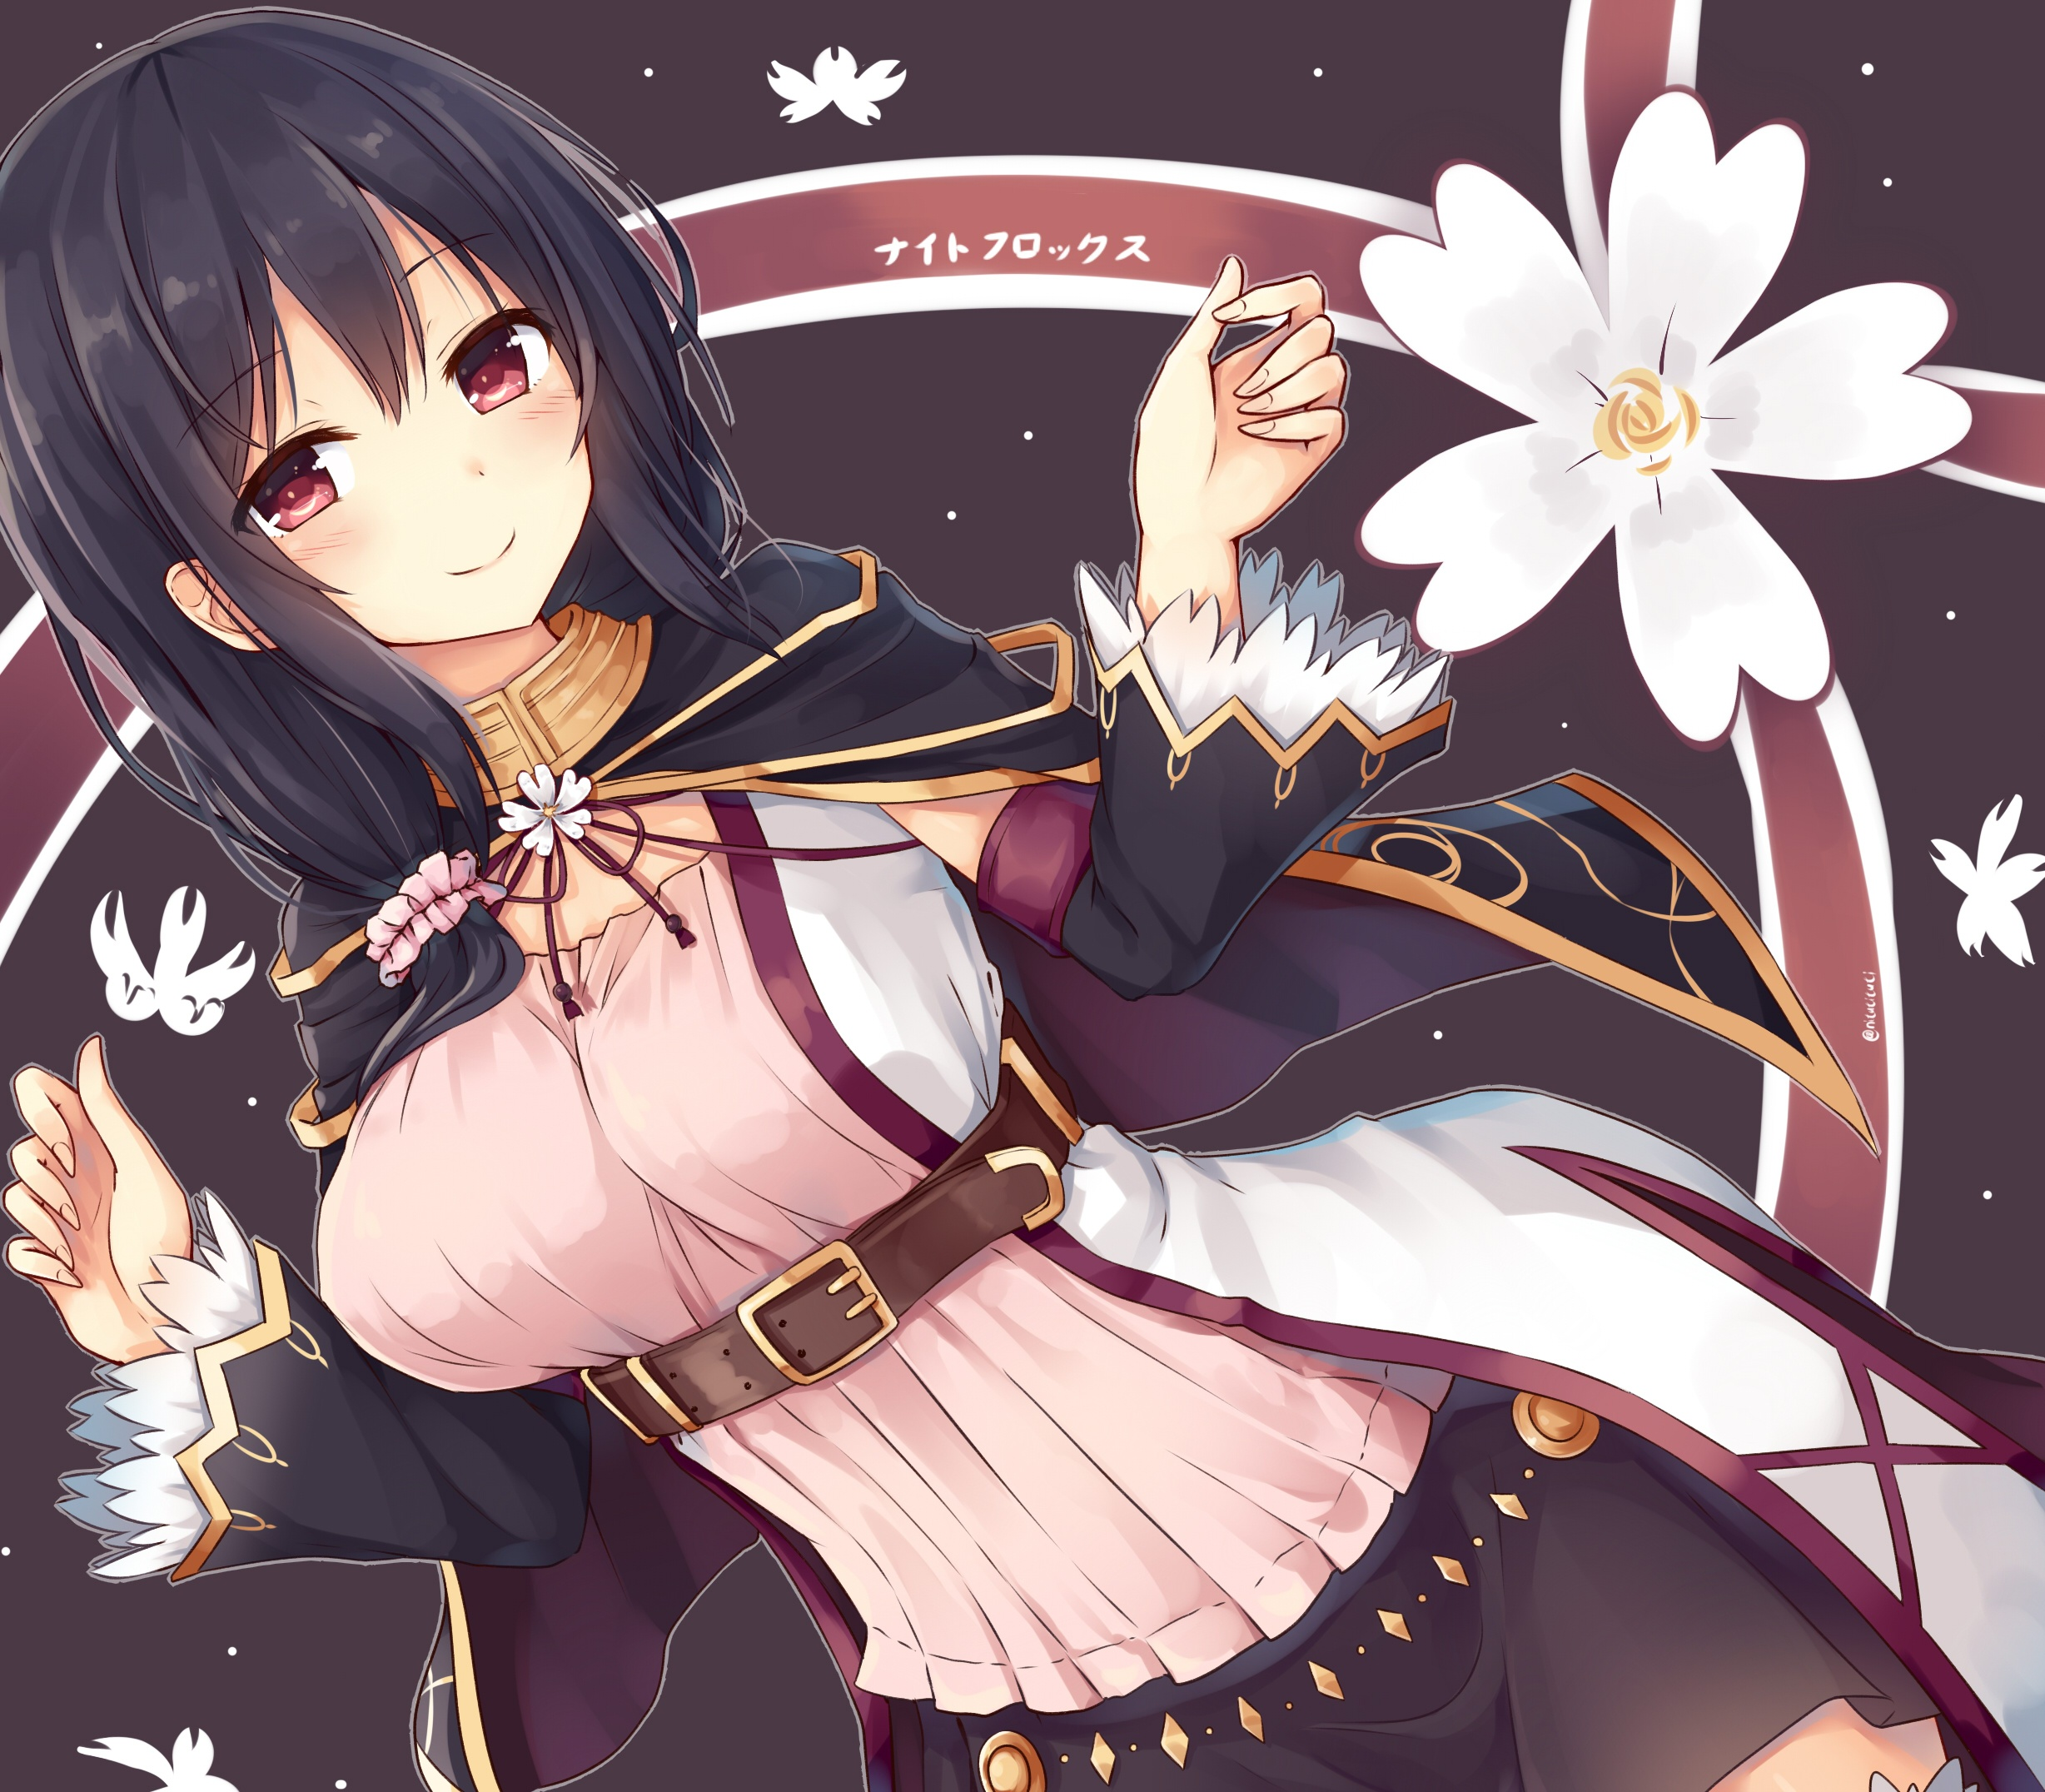纸片人正脸: (0, 6, 700, 694)
